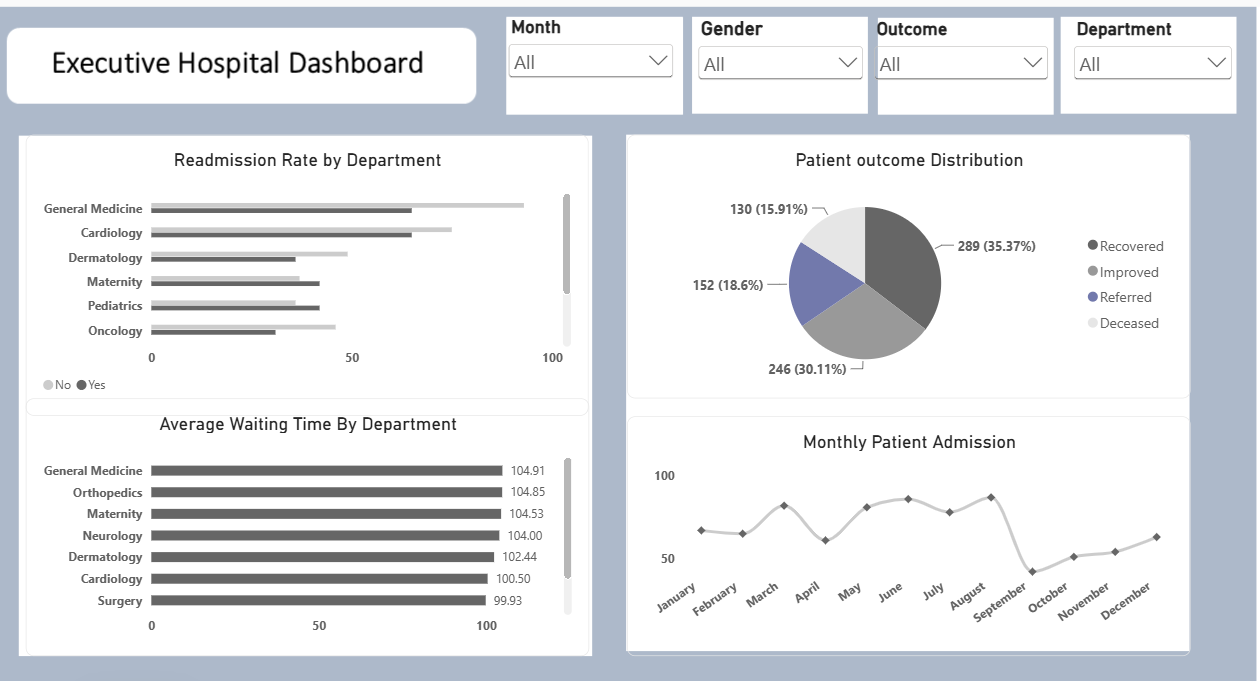

The page's visual inventory and layout, read from the dashboard file:
{"tool":"powerbi","page":{"name":"Page 2","canvas":[1920,1080],"ordinal":1},"visuals":[{"type":"clusteredBarChart","title":"Readmission Rate by Department","fields":{"Category":["clean_patient_hospital_data (2).Department"],"Series":["clean_patient_hospital_data (2).Readmission"],"Y":["CountNonNull(clean_patient_hospital_data (2).Readmission)"]},"box":[357.9,303,563.1,281.5],"z":0},{"type":"barChart","title":"Average Waiting Time By Department","fields":{"Category":["clean_patient_hospital_data (2).Department"],"Y":["Avg(clean_patient_hospital_data (2).Waiting_Time)"]},"box":[358,568,564,258],"z":1000},{"type":"pieChart","title":"Patient outcome Distribution","fields":{"Category":["clean_patient_hospital_data (2).Outcome"],"Y":["CountNonNull(clean_patient_hospital_data (2).Patient_ID)"]},"box":[960,304,564,264],"z":1001},{"type":"lineChart","title":"Monthly Patient Admission","fields":{"Category":["clean_patient_hospital_data (2).Admission_Date.Variation.Date Hierarchy.Month"],"Y":["CountNonNull(clean_patient_hospital_data (2).Patient_ID)"]},"box":[960,586,564,240],"z":1002},{"type":"slicer","fields":{"Values":["clean_patient_hospital_data (2).Admission_Date.Variation.Date Hierarchy.Month"]},"box":[835,186.7,175,103.3],"z":1003},{"type":"slicer","fields":{"Values":["clean_patient_hospital_data (2).Gender"]},"box":[1025,186.7,175,91.7],"z":1004},{"type":"slicer","fields":{"Values":["clean_patient_hospital_data (2).Outcome"]},"box":[1202,188,184,90],"z":1005},{"type":"slicer","fields":{"Values":["clean_patient_hospital_data (2).Department"]},"box":[1402,188,168,90],"z":1006}]}

Visuals, with their boxes on the page's 1920x1080 design canvas (x1, y1, x2, y2). These are canvas units, not pixel positions in the 1260x681 screenshot, which may show the page scaled, cropped or inside an application window:
"Readmission Rate by Department" clusteredBarChart: <region>358, 303, 921, 584</region>
"Average Waiting Time By Department" barChart: <region>358, 568, 922, 826</region>
"Patient outcome Distribution" pieChart: <region>960, 304, 1524, 568</region>
"Monthly Patient Admission" lineChart: <region>960, 586, 1524, 826</region>
slicer - clean_patient_hospital_data (2).Admission_Date.Variation.Date Hierarchy.Month: <region>835, 187, 1010, 290</region>
slicer - clean_patient_hospital_data (2).Gender: <region>1025, 187, 1200, 278</region>
slicer - clean_patient_hospital_data (2).Outcome: <region>1202, 188, 1386, 278</region>
slicer - clean_patient_hospital_data (2).Department: <region>1402, 188, 1570, 278</region>
